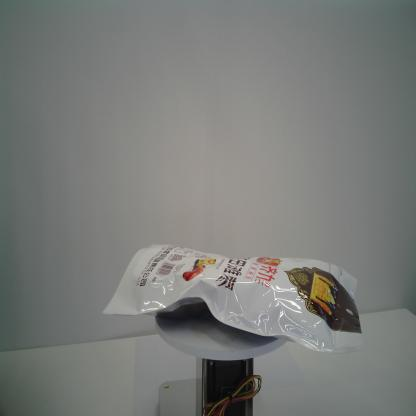Dried Food: (102, 243, 364, 355)
